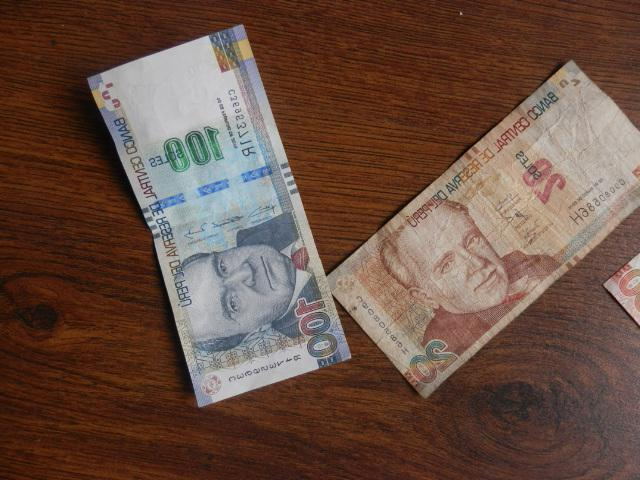B100: (86, 23, 351, 408)
B20: (326, 59, 640, 398)
